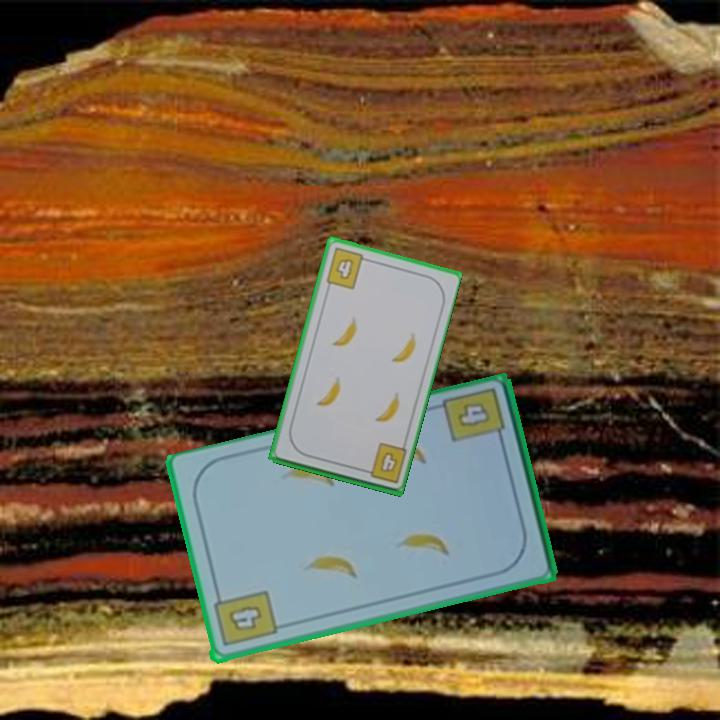4b: (439, 384, 508, 450), (209, 587, 279, 650), (322, 244, 372, 292), (358, 439, 409, 486)
